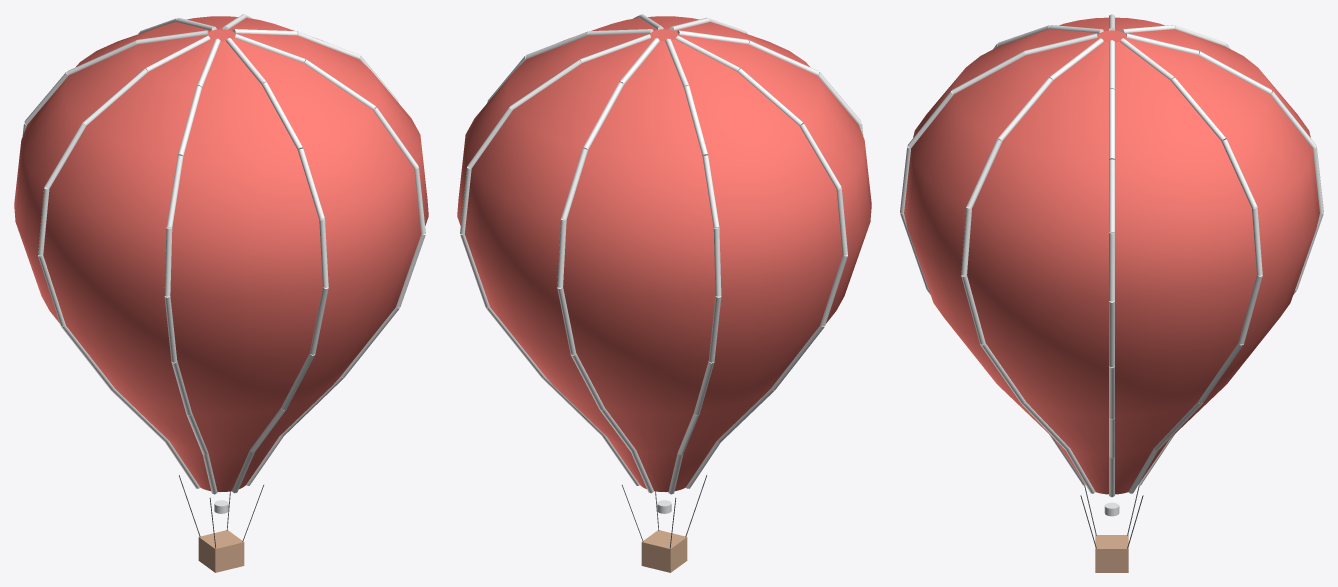
Rendered from balloon.glb.
3 renders of one model, left to right at view 1: azimuth 30°, elevation 25°; view 2: azimuth 150°, elevation 25°; view 3: azimuth 270°, elevation 25°, orthographic.
Parts seen in each view (by area): view 1: balloon; view 2: balloon; view 3: balloon.
Part boxes in pixels (left/top/right/bottom): balloon: left=14, top=14, right=428, bottom=572; balloon: left=457, top=14, right=871, bottom=572; balloon: left=900, top=14, right=1323, bottom=572.
Size of the model in its own units: 17.75 by 24.54 by 17.71.
